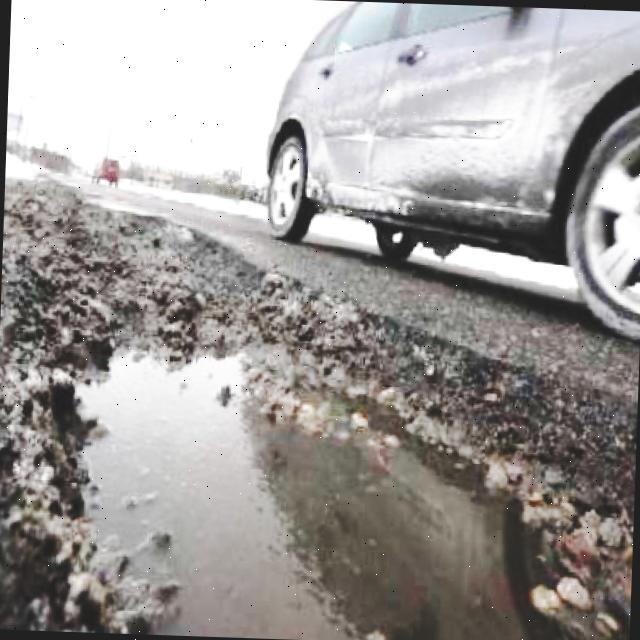pothole: (6, 291, 597, 640)
